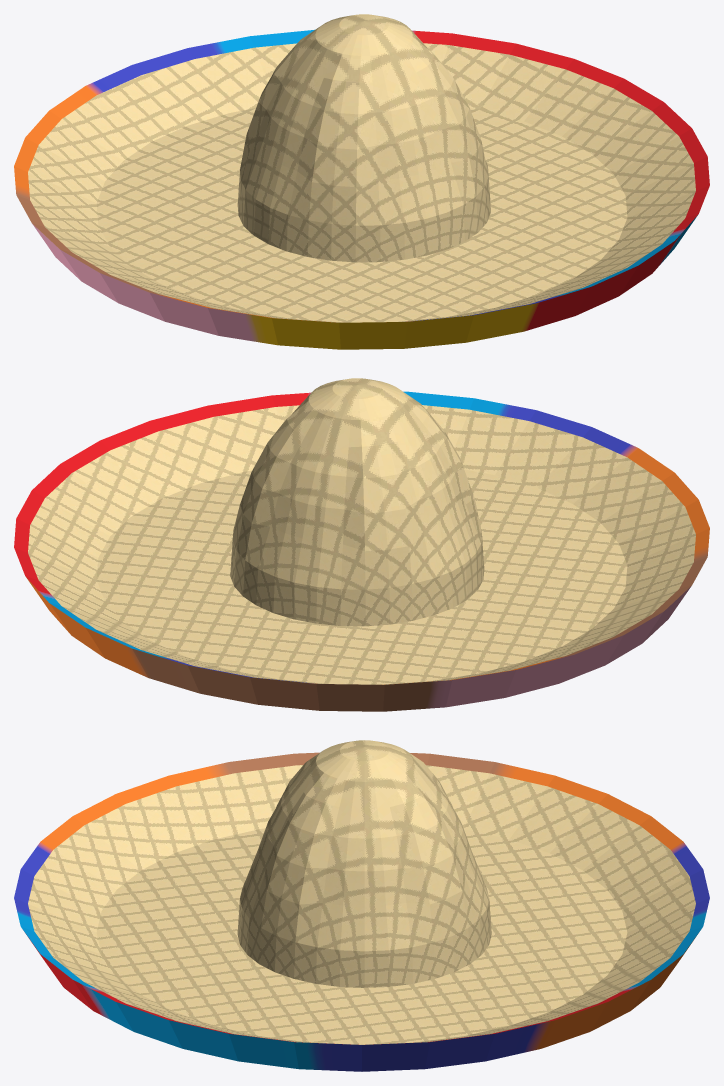
The model's file is item-sunbrella.glb.
The picture shows the model from 3 angles, top to bottom: view 1: azimuth 30°, elevation 25°; view 2: azimuth 150°, elevation 25°; view 3: azimuth 270°, elevation 25°; orthographic projection.
Size of the model in its own units: 2.15 by 0.6488 by 2.15.
2 materials, 2 textured.
